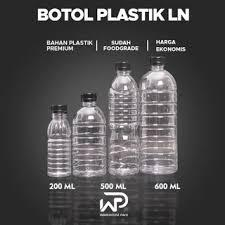BIODEGRADABLE: (66, 86, 104, 181)
